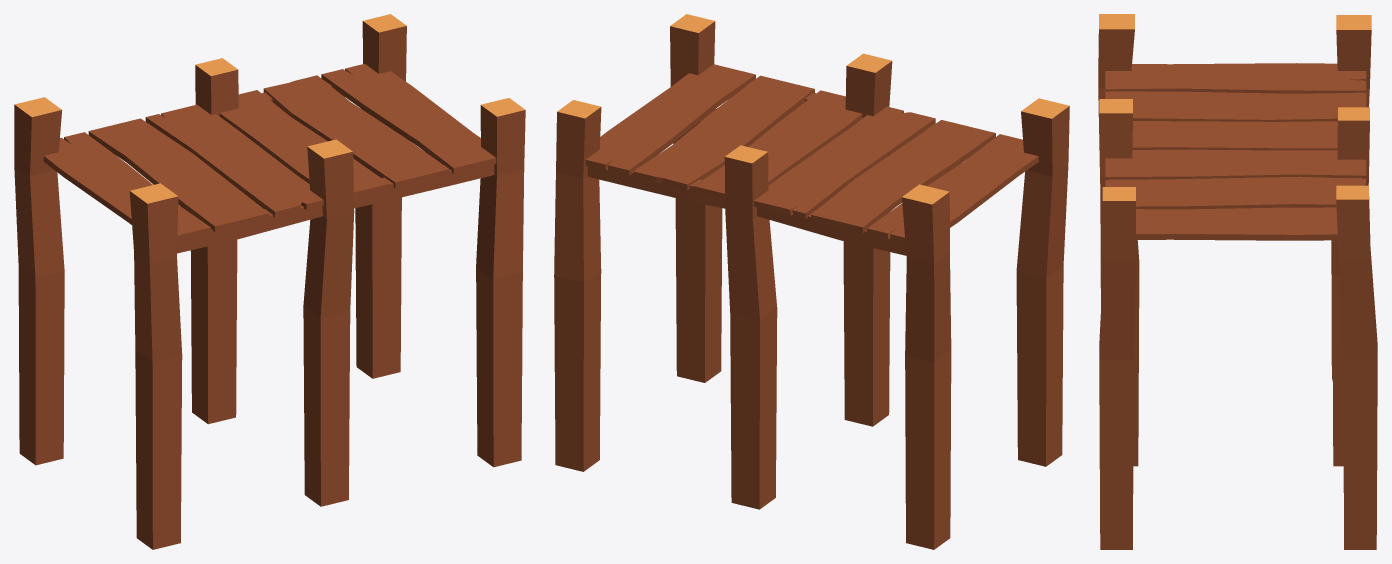
File: dock.glb
3 views of the same model, side by side, from view 1: azimuth 30°, elevation 25°; view 2: azimuth 150°, elevation 25°; view 3: azimuth 270°, elevation 25° (orthographic).
Parts seen in each view (by area): view 1: dock_merged.001; view 2: dock_merged.001; view 3: dock_merged.001.
Boxes of the visible parts, x1,y1,x2,y2 form: dock_merged.001: (14,14,525,549); dock_merged.001: (554,14,1069,549); dock_merged.001: (1098,14,1377,549).
Bounding box in the file's own units: 10.85 × 9.56 × 6.85.
